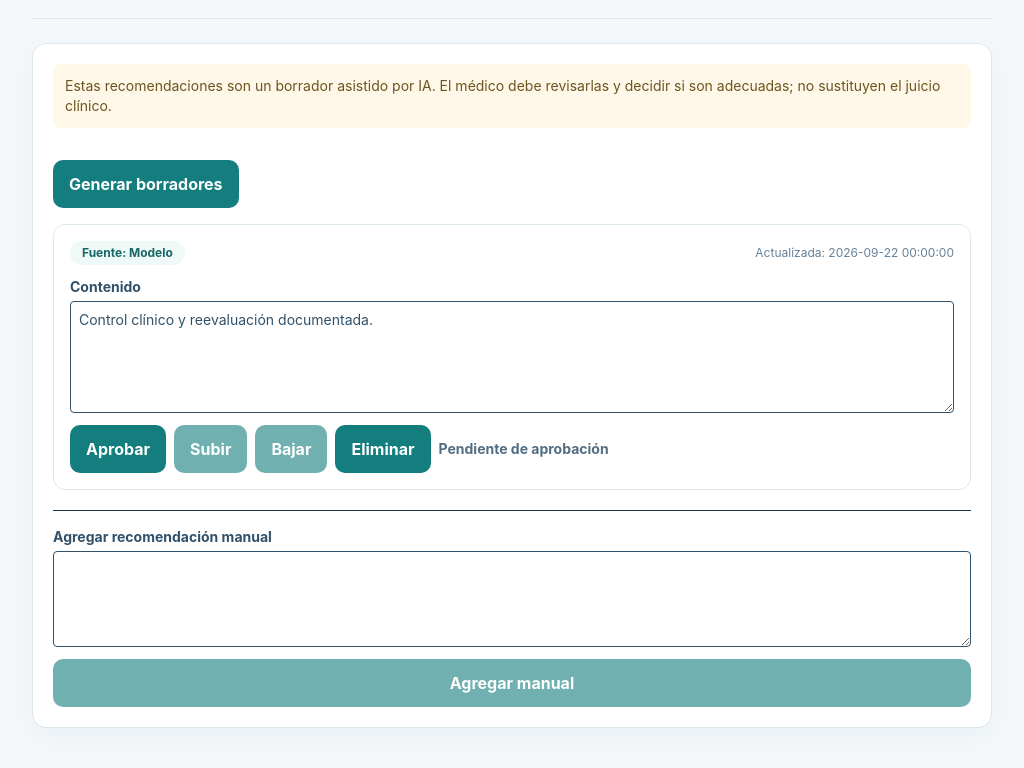
Test: RecommendationsScreen routed workflow › preserves unsaved content and offers safe reload guidance on 409 conflicts
(page scrolled)
Expected: the text "Fuente: Modelo" is shown, [70,241,185,265]
Type "Texto manual seguro conservado." into the text box labelled "Agregar recomendación manual" at (512, 599), box [53,551,971,647]
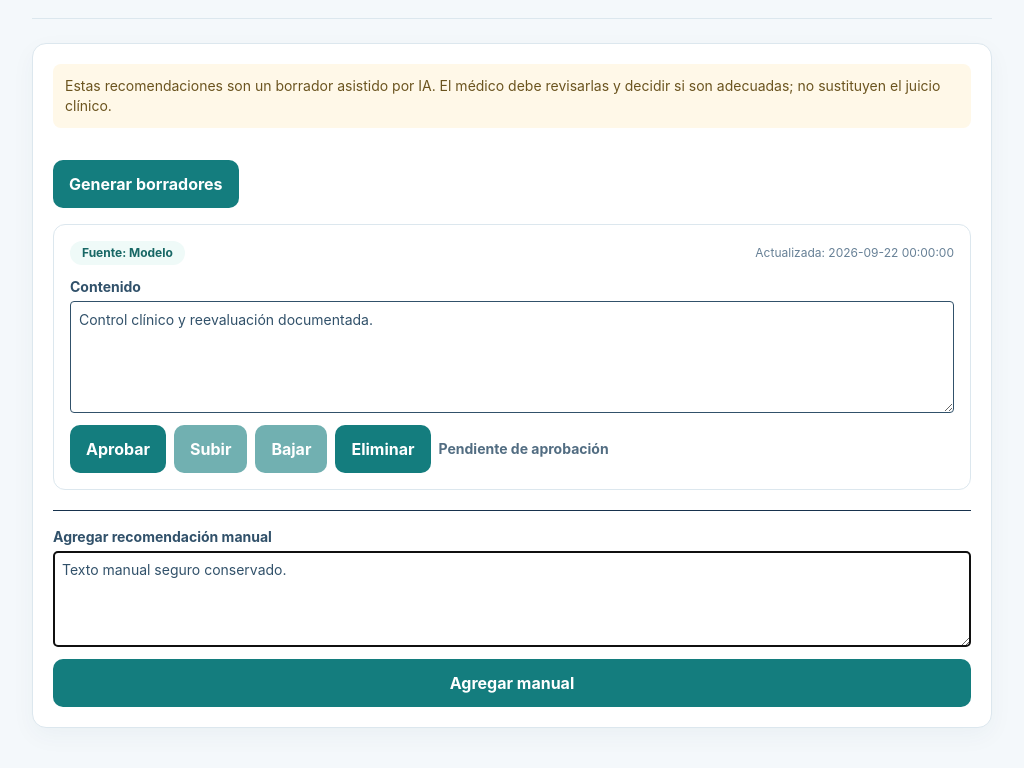
Click the button "Agregar manual" at (512, 683), box [53,659,971,707]
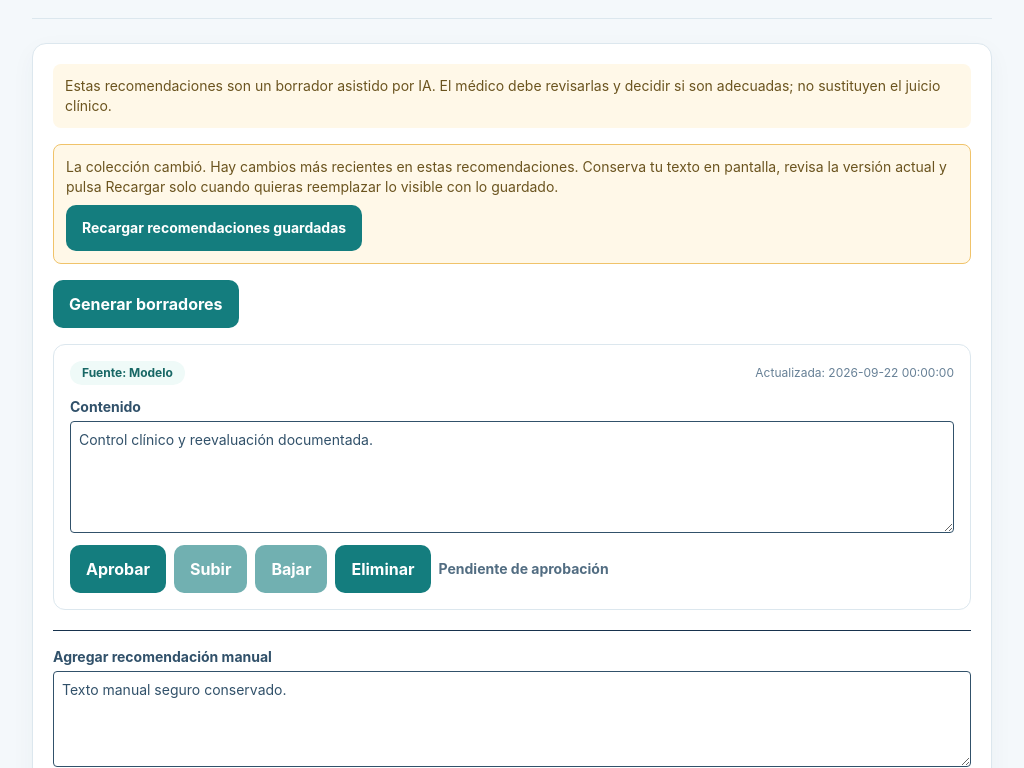
Now the message shows "Conserva tu texto en pantalla", box [66,158,947,195]
Now the button "Recargar recomendaciones guardadas" is enabled, box [66,205,362,251]
